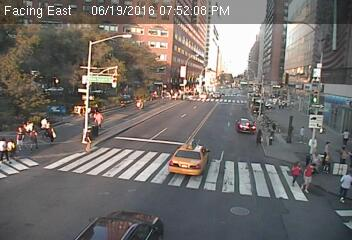neg: (53, 63, 82, 102), (88, 71, 112, 103), (30, 63, 53, 94), (277, 115, 297, 140), (116, 64, 132, 85), (238, 88, 248, 102), (249, 112, 259, 126), (212, 90, 221, 102), (226, 95, 234, 105), (173, 102, 179, 111)
pos: (332, 167, 351, 207), (281, 161, 303, 190), (77, 124, 98, 153), (246, 126, 267, 153), (295, 122, 310, 142)
